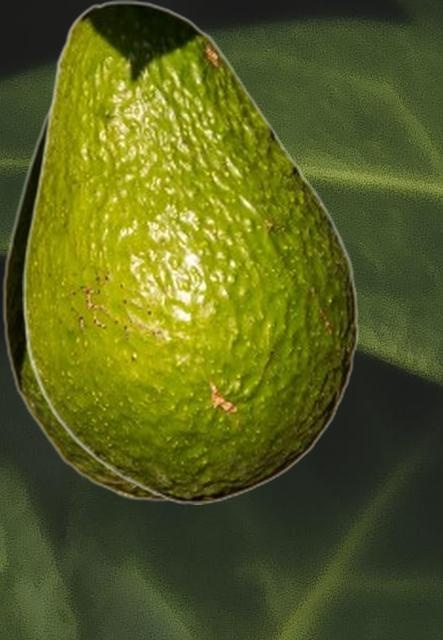avocado: (22, 0, 358, 503), (2, 96, 168, 501)
